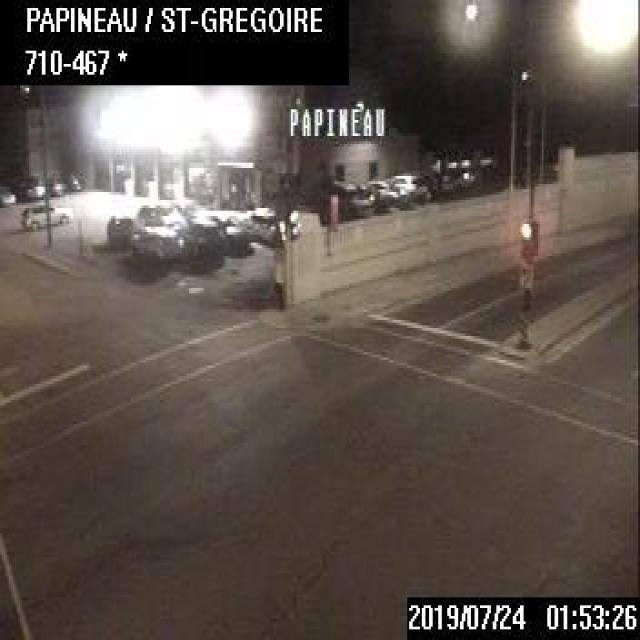vehicle: (129, 223, 181, 263), (21, 201, 70, 231), (136, 202, 188, 230), (330, 179, 368, 213), (388, 170, 428, 199), (366, 177, 406, 205), (105, 213, 135, 246), (10, 177, 35, 200), (0, 183, 13, 204)
